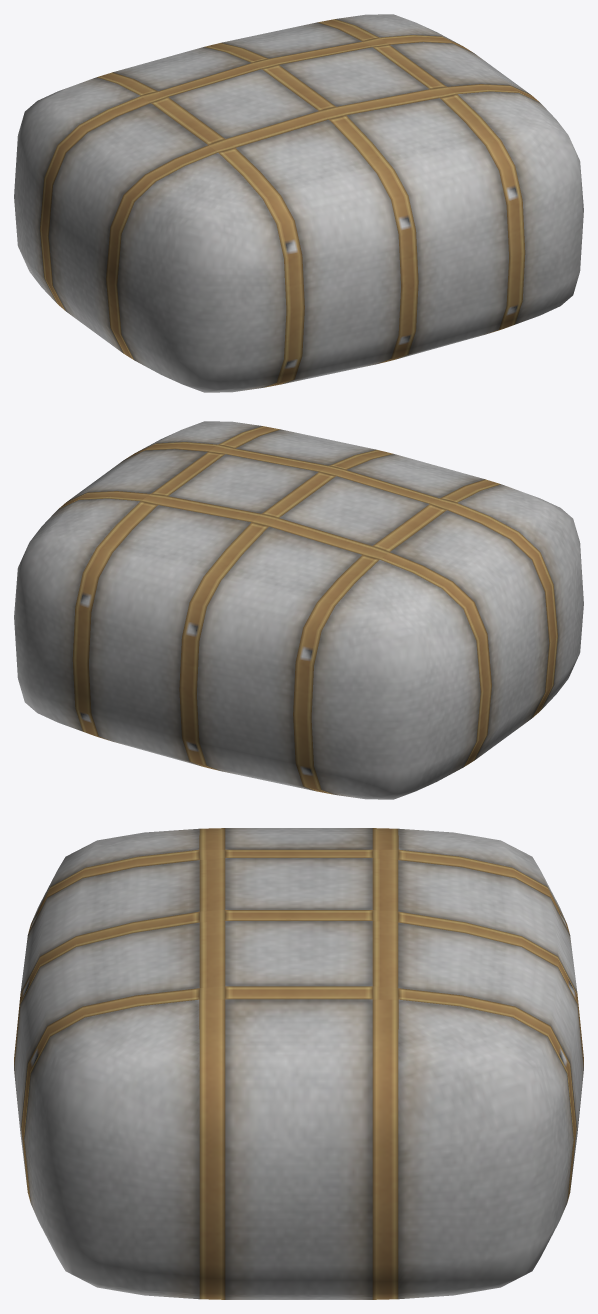
File: bag.obj
The picture shows the model from 3 angles, top to bottom: view 1: azimuth 30°, elevation 25°; view 2: azimuth 150°, elevation 25°; view 3: azimuth 270°, elevation 25°; orthographic projection. The views are drawn at different scales.
Parts seen in each view (by area): view 1: 1; view 2: 1; view 3: 1.
Part boxes in pixels (bbox=[...]): 1: bbox=[14, 14, 583, 392]; 1: bbox=[14, 421, 583, 799]; 1: bbox=[14, 828, 583, 1299].
Bounding box in the file's own units: 0.475 × 0.2365 × 0.4115.
Materials: 1 (1 with a texture image).
